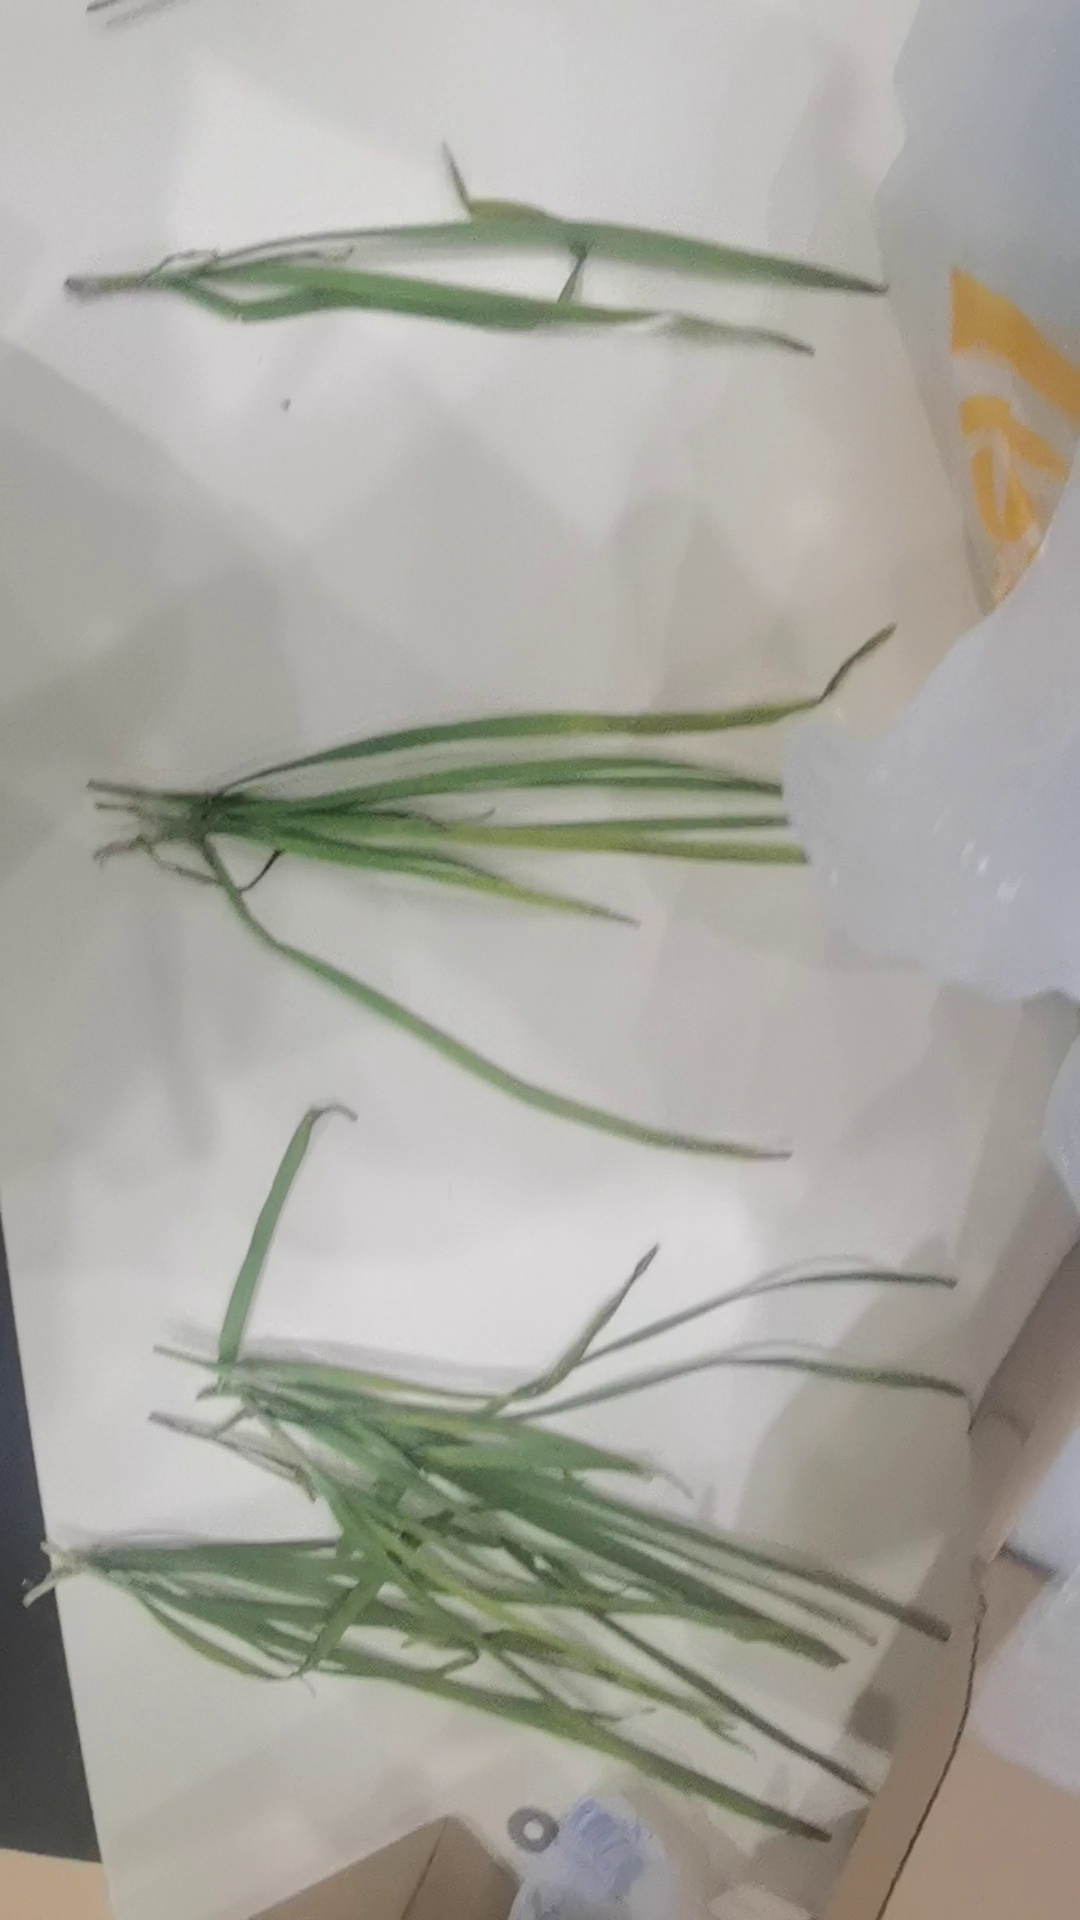chives: (20, 1253, 1030, 1825), (76, 609, 957, 1121), (44, 171, 902, 388)
